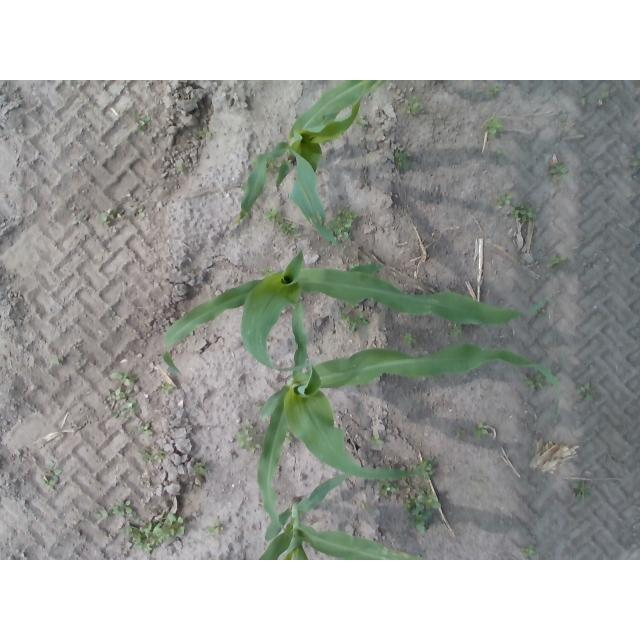Maize: (258, 299, 558, 533), (165, 251, 556, 374), (239, 87, 373, 270), (257, 470, 419, 560)
Weeds: (127, 514, 185, 551), (405, 493, 440, 536), (330, 213, 357, 236), (341, 310, 369, 330), (110, 372, 130, 394), (516, 204, 536, 222), (395, 151, 410, 171), (112, 501, 133, 515), (573, 483, 592, 498), (195, 461, 211, 476), (580, 383, 593, 401), (548, 254, 565, 267), (132, 425, 152, 436), (380, 483, 396, 496), (488, 118, 501, 134), (263, 211, 281, 222), (241, 429, 252, 447), (528, 375, 542, 389), (424, 461, 436, 477), (46, 469, 62, 481), (119, 399, 138, 409), (139, 113, 149, 131), (407, 102, 422, 114), (110, 389, 126, 400), (143, 453, 166, 460), (404, 334, 416, 347), (281, 222, 295, 233), (245, 418, 254, 434), (199, 126, 211, 138), (498, 194, 511, 204), (551, 166, 566, 174), (478, 424, 487, 437), (523, 545, 534, 555), (451, 325, 461, 336), (160, 384, 172, 393), (216, 522, 224, 534), (252, 440, 260, 452), (103, 212, 113, 221), (372, 438, 384, 445), (359, 118, 369, 126), (491, 86, 499, 94)
